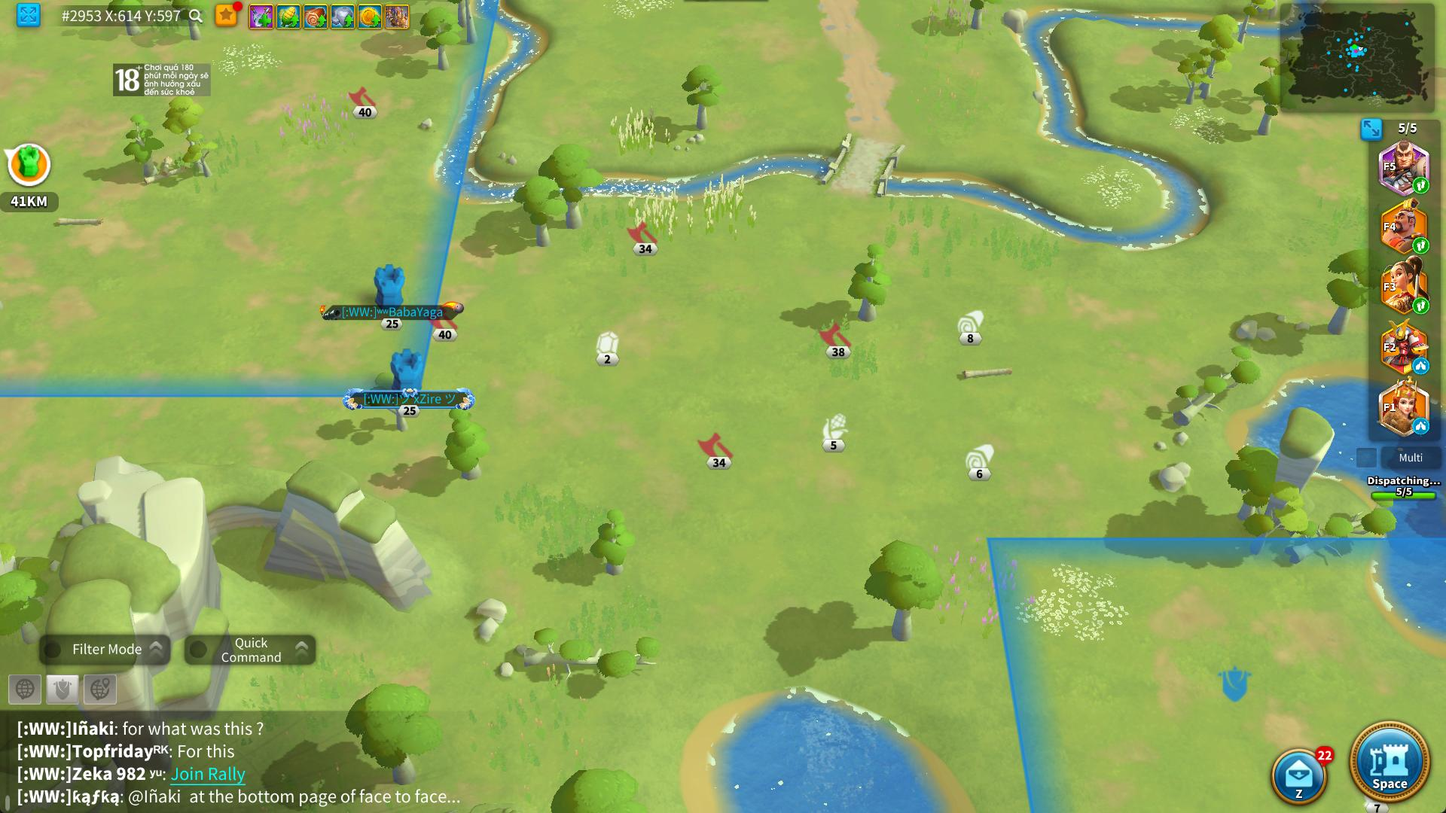gem-z-out: (594, 330, 621, 368)
march_idle: (1412, 356, 1431, 375), (1412, 417, 1430, 435)
march_marching: (1412, 176, 1431, 196), (1412, 236, 1431, 255), (1412, 297, 1431, 315)
